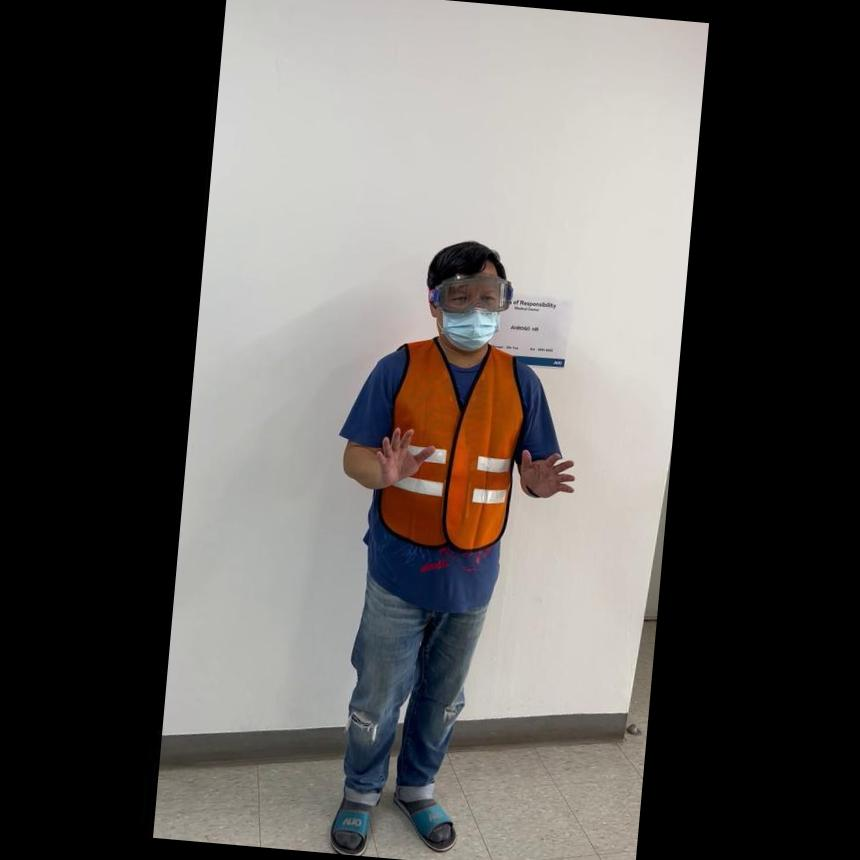No-gloves: (365, 417, 437, 490), (512, 440, 580, 502)
